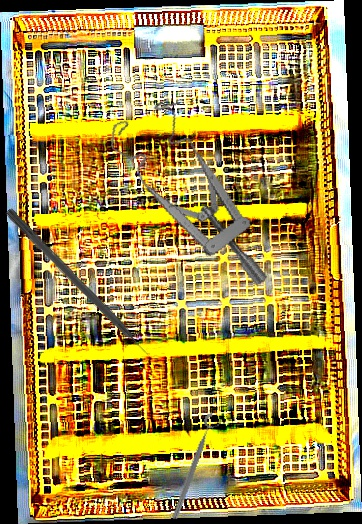Fixation Ring: (168, 410, 225, 524)
Pusher: (3, 207, 160, 369)
Speculum: (103, 85, 270, 314)
